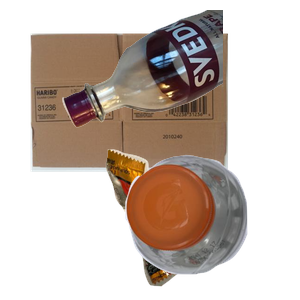cardboard: (28, 31, 249, 195)
glass: (60, 10, 300, 130)
plastic: (123, 152, 300, 300)
trash: (103, 147, 300, 300)
